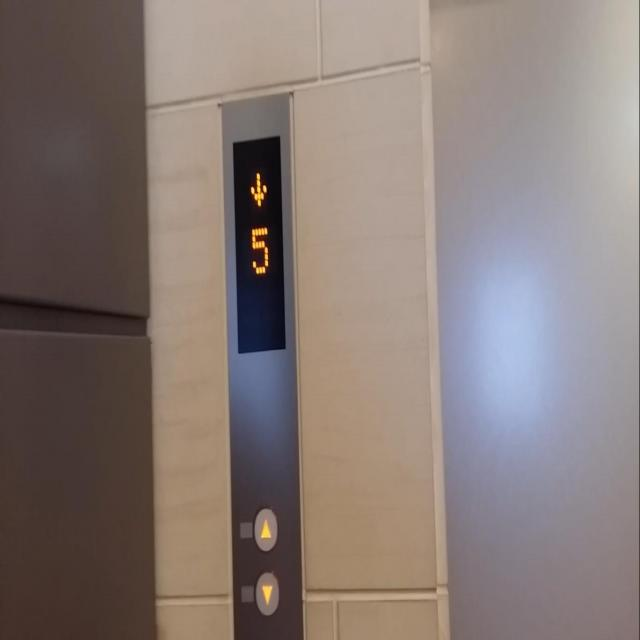down: (254, 568, 280, 618)
led: (232, 134, 288, 353)
up: (254, 505, 278, 553)
